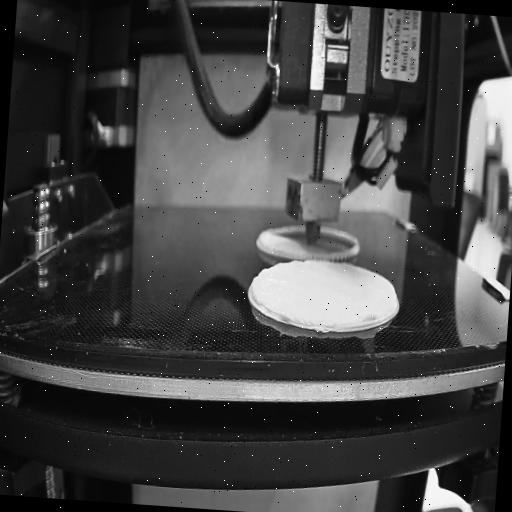over_extrusion: (250, 263, 270, 304)
